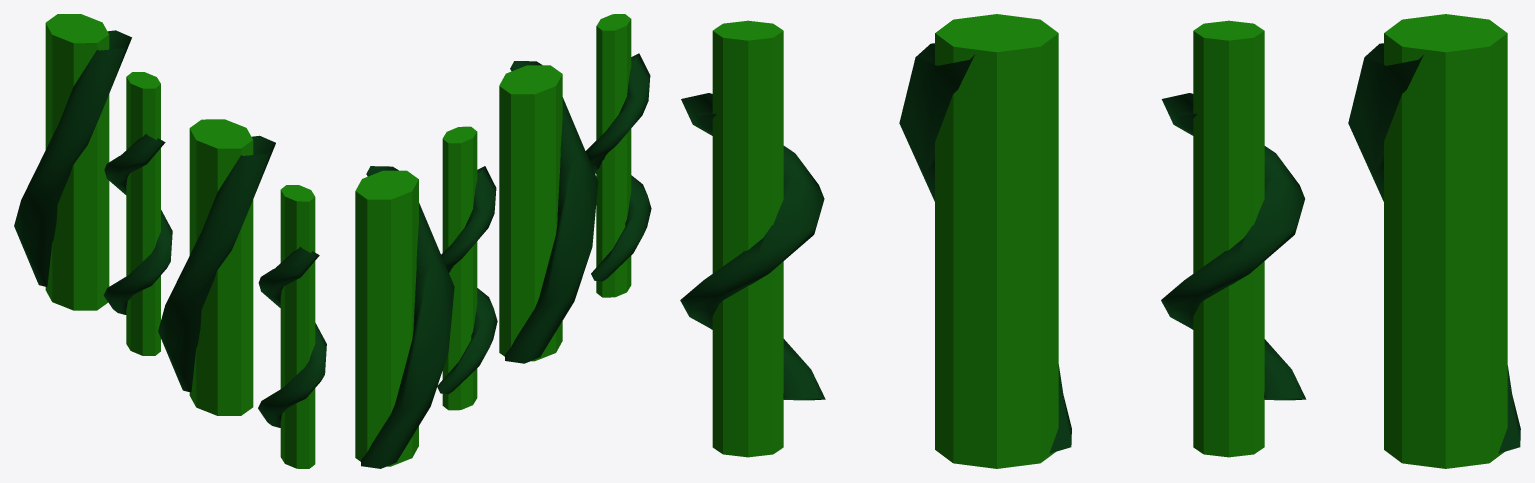
Rendered from Leana.fbx.
The picture shows the model from 3 angles, left to right: view 1: azimuth 30°, elevation 25°; view 2: azimuth 150°, elevation 25°; view 3: azimuth 270°, elevation 25°; orthographic projection. The views are drawn at different scales.
Parts seen in each view (by area): view 1: Cylinder.003; view 2: Cylinder.003; view 3: Cylinder.003.
Part boxes in pixels (box(x1,y1,x2,y2)): Cylinder.003: box(14, 14, 326, 468); Cylinder.003: box(355, 14, 651, 468); Cylinder.003: box(680, 14, 1520, 468).
Size of the model in its own units: 147 by 397 by 725.
